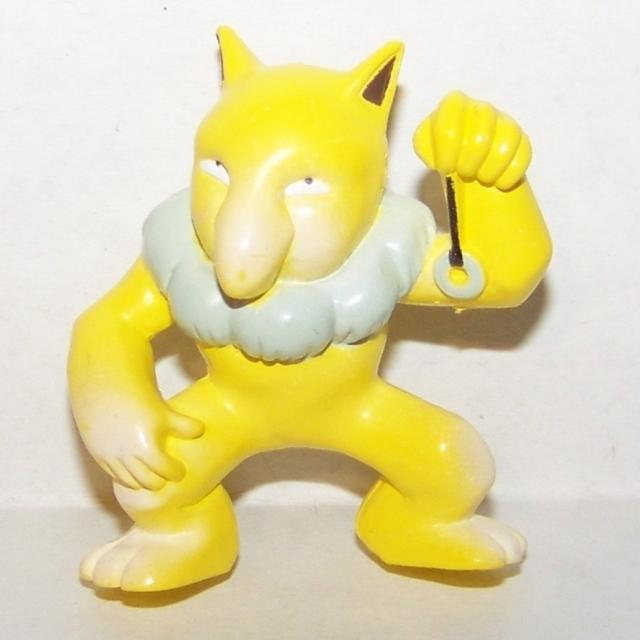Hypno: (70, 31, 554, 585)
